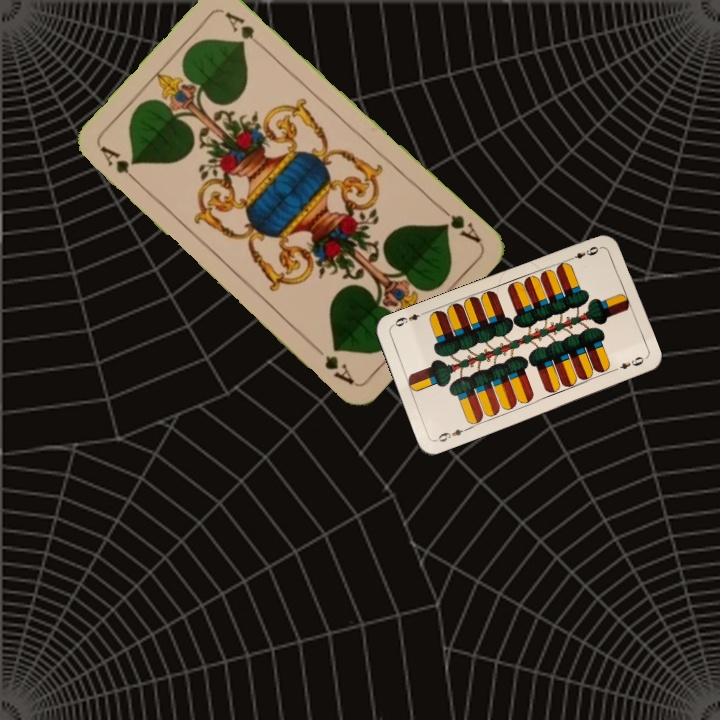E9: (432, 424, 471, 445), (565, 242, 604, 263)
GA: (96, 142, 144, 189), (434, 201, 483, 246)
